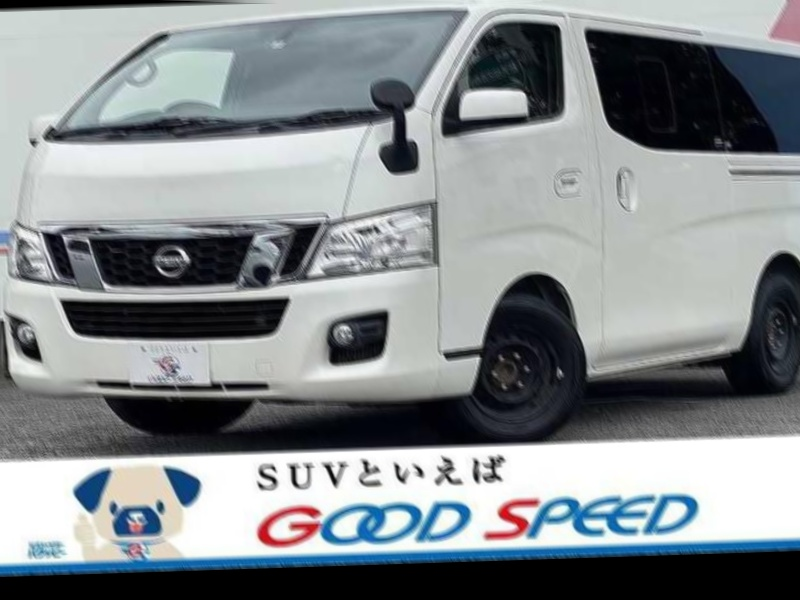van: (0, 0, 800, 429)
